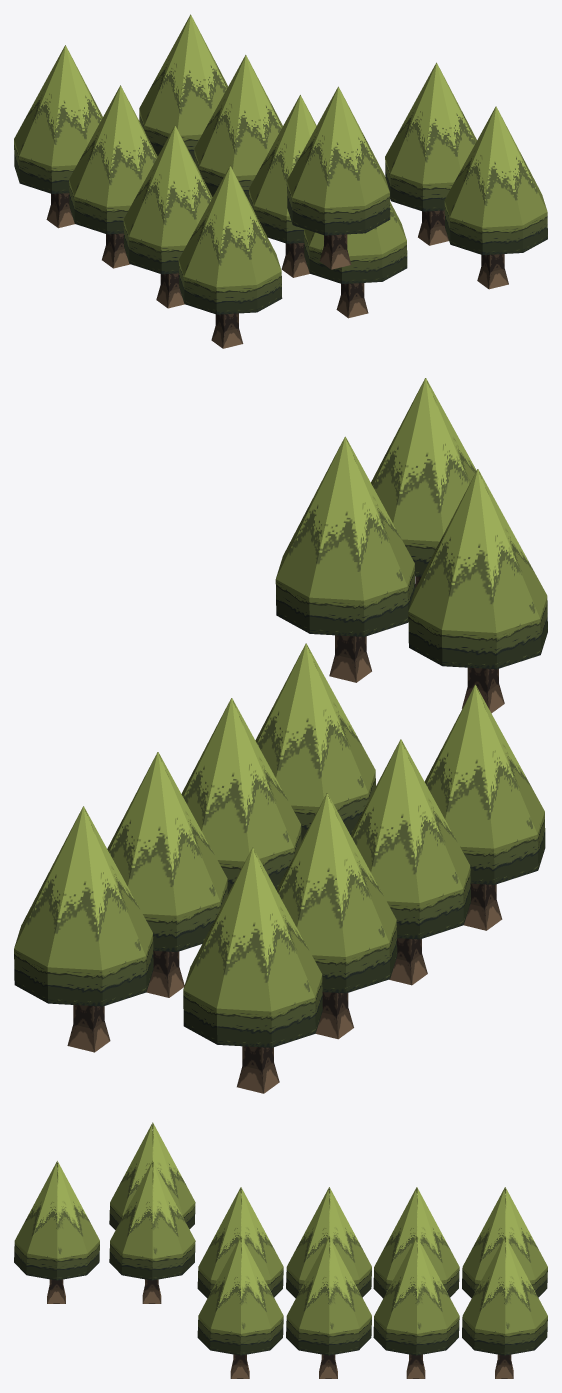
The model's file is Tree2.fbx.
The picture shows the model from 3 angles, top to bottom: view 1: azimuth 30°, elevation 25°; view 2: azimuth 150°, elevation 25°; view 3: azimuth 270°, elevation 25°; orthographic projection. The views are drawn at different scales.
Parts seen in each view (by area): view 1: Cube.058, Cube.056, Cube.059, Cube.057, Cube.061, Cube.060, Cube.062, Cube.064, Cube.063, Cube.065, Cube.066; view 2: Cube.061, Cube.064, Cube.057, Cube.058, Cube.062, Cube.059, Cube.060, Cube.063, Cube.066, Cube.065, Cube.056; view 3: Cube.066, Cube.063, Cube.057, Cube.064, Cube.065, Cube.056, Cube.059, Cube.062, Cube.060, Cube.061, Cube.058.
Boxes of the visible parts, x1,y1,x2,y2 form: Cube.058: [287, 86, 390, 269]; Cube.056: [444, 106, 547, 289]; Cube.059: [178, 165, 282, 348]; Cube.057: [385, 62, 476, 245]; Cube.061: [14, 45, 102, 228]; Cube.060: [123, 125, 212, 308]; Cube.062: [69, 85, 157, 268]; Cube.064: [139, 14, 227, 161]; Cube.063: [194, 55, 282, 200]; Cube.065: [249, 95, 316, 277]; Cube.066: [304, 201, 407, 318]; Cube.061: [183, 847, 322, 1093]; Cube.064: [14, 806, 153, 1052]; Cube.057: [275, 436, 415, 682]; Cube.058: [408, 469, 547, 713]; Cube.062: [276, 793, 397, 1039]; Cube.059: [424, 684, 545, 930]; Cube.060: [350, 739, 470, 985]; Cube.063: [107, 752, 227, 997]; Cube.066: [255, 643, 375, 840]; Cube.065: [181, 698, 301, 894]; Cube.056: [371, 378, 476, 587]; Cube.066: [197, 1236, 283, 1378]; Cube.063: [373, 1236, 459, 1378]; Cube.057: [109, 1161, 195, 1303]; Cube.064: [462, 1236, 547, 1378]; Cube.065: [286, 1236, 371, 1378]; Cube.056: [14, 1161, 99, 1303]; Cube.059: [197, 1187, 283, 1298]; Cube.062: [373, 1187, 459, 1298]; Cube.060: [286, 1187, 371, 1298]; Cube.061: [462, 1187, 547, 1298]; Cube.058: [109, 1122, 195, 1229].
Size of the model in its own units: 569 by 629 by 1347.
22 materials, 22 textured.
